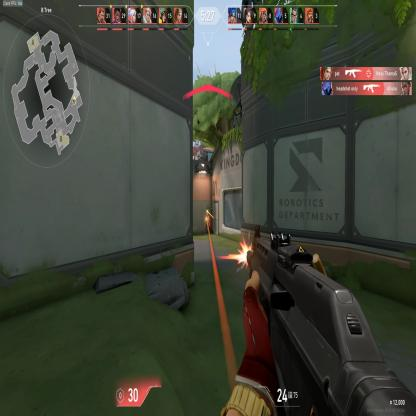enemy: (204, 211, 211, 237)
